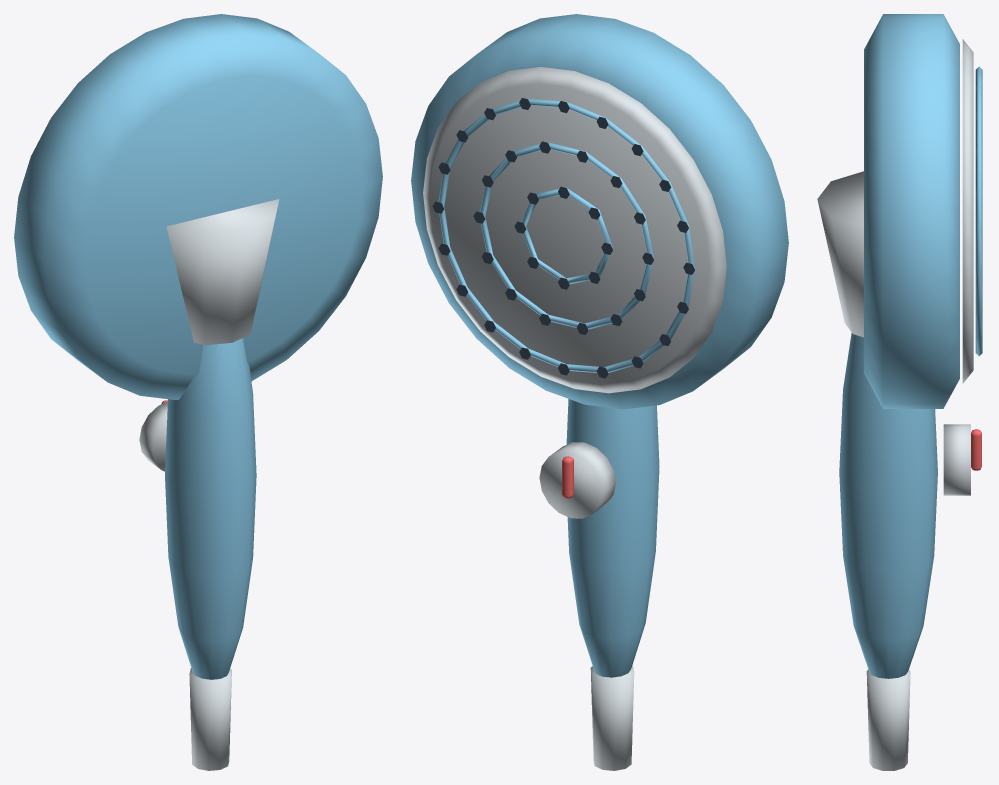
File: shower_massage.glb
3 views of the same model, side by side, from view 1: azimuth 30°, elevation 25°; view 2: azimuth 150°, elevation 25°; view 3: azimuth 270°, elevation 25° (orthographic). The views are drawn at different scales.
Visible parts, largest first — view 1: Body, Dial; view 2: Body, Dial; view 3: Body, Dial.
Boxes of the visible parts, x1,y1,x2,y2 form: Body: [14, 14, 382, 770]; Dial: [139, 400, 167, 471]; Body: [411, 14, 788, 770]; Dial: [539, 442, 615, 518]; Body: [817, 14, 982, 770]; Dial: [943, 424, 981, 495].
Size of the model in its own units: 0.1469 by 0.3 by 0.0622.
Materials: 4 (4 with a texture image).
